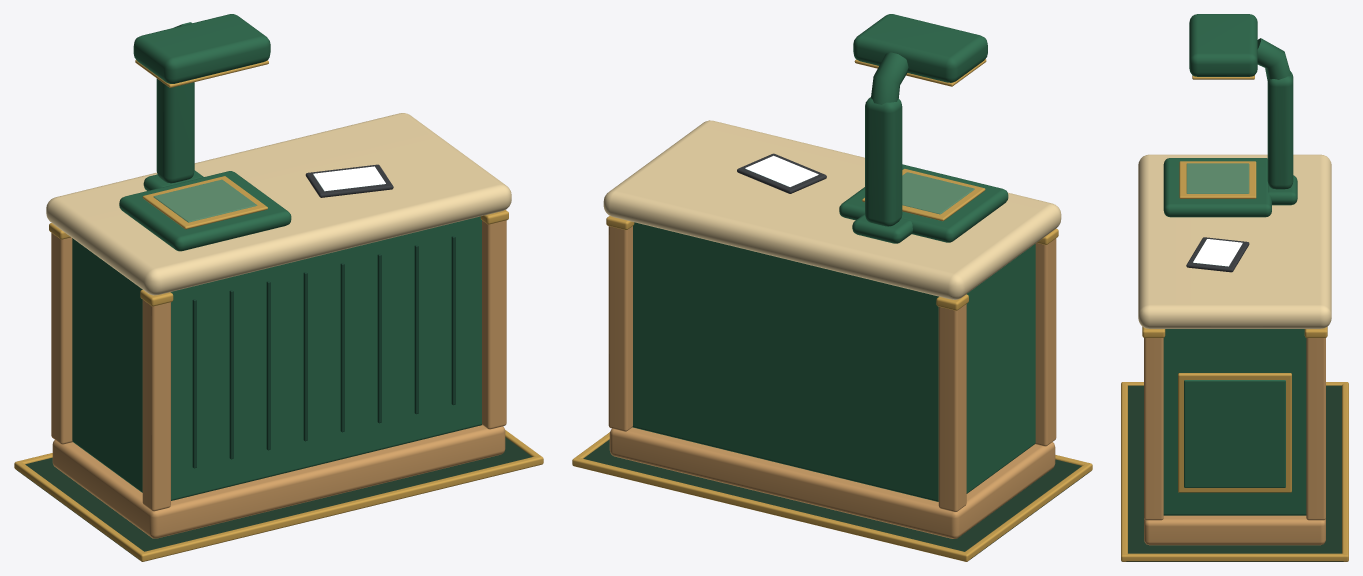
Rendered from security_booth_tier2.glb.
The picture shows the model from 3 angles, left to right: view 1: azimuth 30°, elevation 25°; view 2: azimuth 150°, elevation 25°; view 3: azimuth 270°, elevation 25°; orthographic projection. The views are drawn at different scales.
Parts seen in each view (by area): view 1: Body, Top, Plinth, Mat, LampHead, Pilaster-1-1, Pilaster1-1, ScanPad, Pilaster-11, MatEdge0, ArmCol, ScanWindow (+12 smaller); view 2: Body, Top, Plinth, Mat, LampHead, Pilaster-11, Pilaster11, ArmCol, Pilaster-1-1, MatEdge1, ScanPad, ScanWindow (+6 smaller); view 3: Top, Body, EndInset, Mat, Plinth, LampHead, Pilaster1-1, Pilaster11, ScanPad, ArmCol, EndFrame, MatEdge3 (+8 smaller).
Boxes of the visible parts, x1,y1,x2,y2 form: Body: (72,216,481,500); Top: (46,113,511,295); Plinth: (52,425,505,538); Mat: (17,437,531,561); LampHead: (133,14,270,83); Pilaster-1-1: (142,300,170,511); Pilaster1-1: (482,220,506,429); ScanPad: (119,171,291,251); Pilaster-11: (51,233,72,444); MatEdge0: (139,455,543,561); ArmCol: (156,78,194,183); ScanWindow: (153,179,257,222); Body: (632,222,1035,501); Top: (603,120,1061,299); Plinth: (609,427,1055,538); Mat: (583,439,1089,559); LampHead: (853,14,987,82); Pilaster-11: (938,304,966,511); Pilaster11: (608,226,632,431); ArmCol: (865,97,902,226); Pilaster-1-1: (1035,238,1056,446); MatEdge1: (572,457,969,561); ScanPad: (839,164,1008,242); ScanWindow: (902,172,974,214); Top: (1138,154,1331,328); Body: (1163,329,1306,515); EndInset: (1184,380,1285,487); Mat: (1126,385,1343,561); Plinth: (1144,515,1325,545); LampHead: (1189,14,1257,76); Pilaster1-1: (1144,338,1163,520); Pilaster11: (1306,338,1325,520); ScanPad: (1163,158,1271,217); ArmCol: (1267,71,1293,189); EndFrame: (1178,373,1291,492); MatEdge3: (1122,553,1347,561).
Size of the model in its own units: 1.45 by 1.57 by 0.8001.
